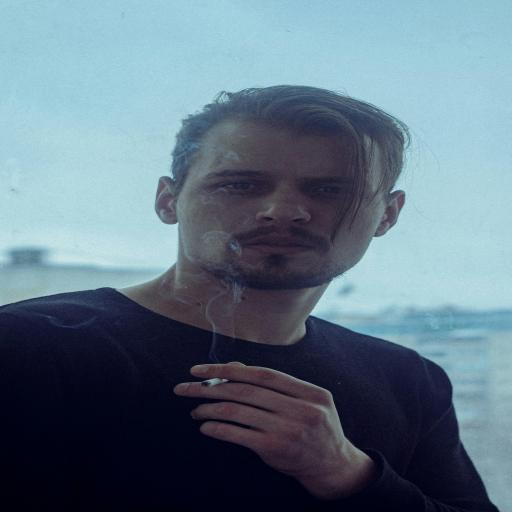terdeteksi pegang rokok: (164, 322, 341, 464)
